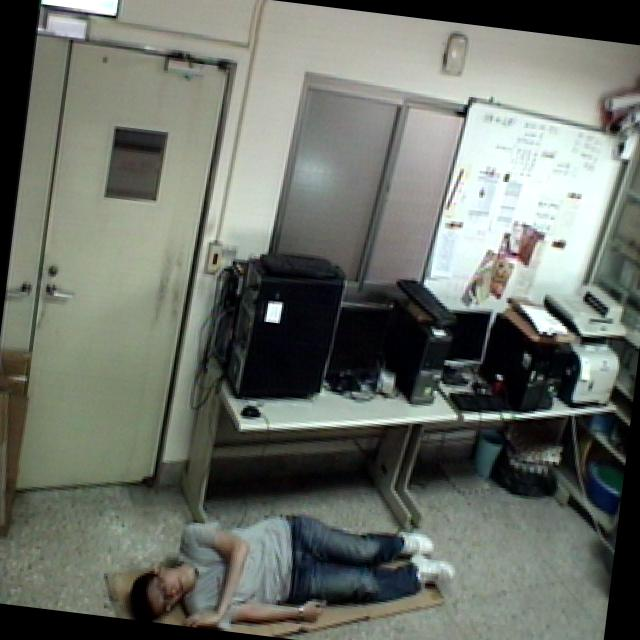lie: (112, 474, 473, 640)
